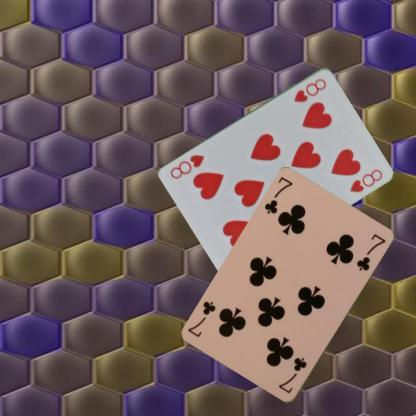7c: (275, 354, 308, 396), (262, 175, 294, 216)
8h: (291, 75, 328, 104)
